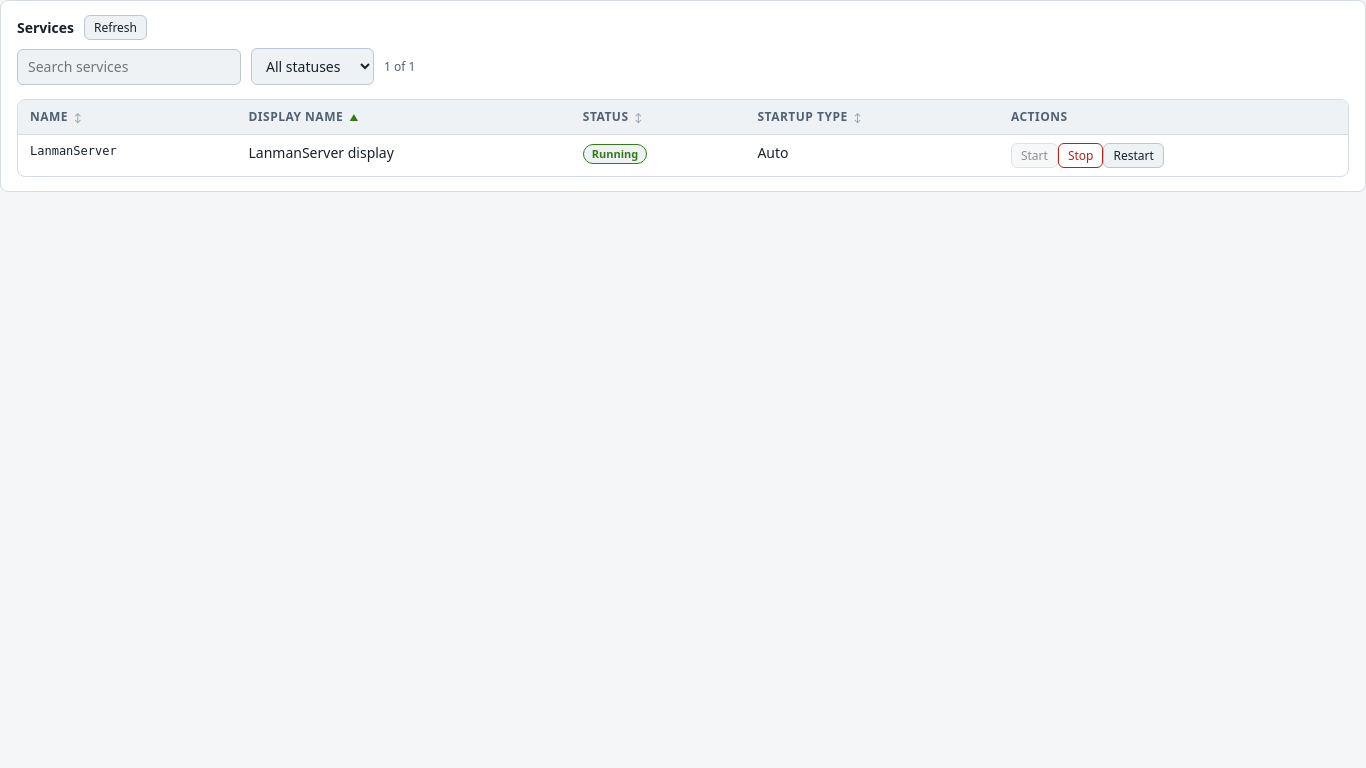
dependents flow › the service name field is read-only when preset, and the server effectiveRisk drives badge, typed hostname and the required reason
Click the button with aria-label "Stop LanmanServer": (1081, 156) [1058,143,1104,168]
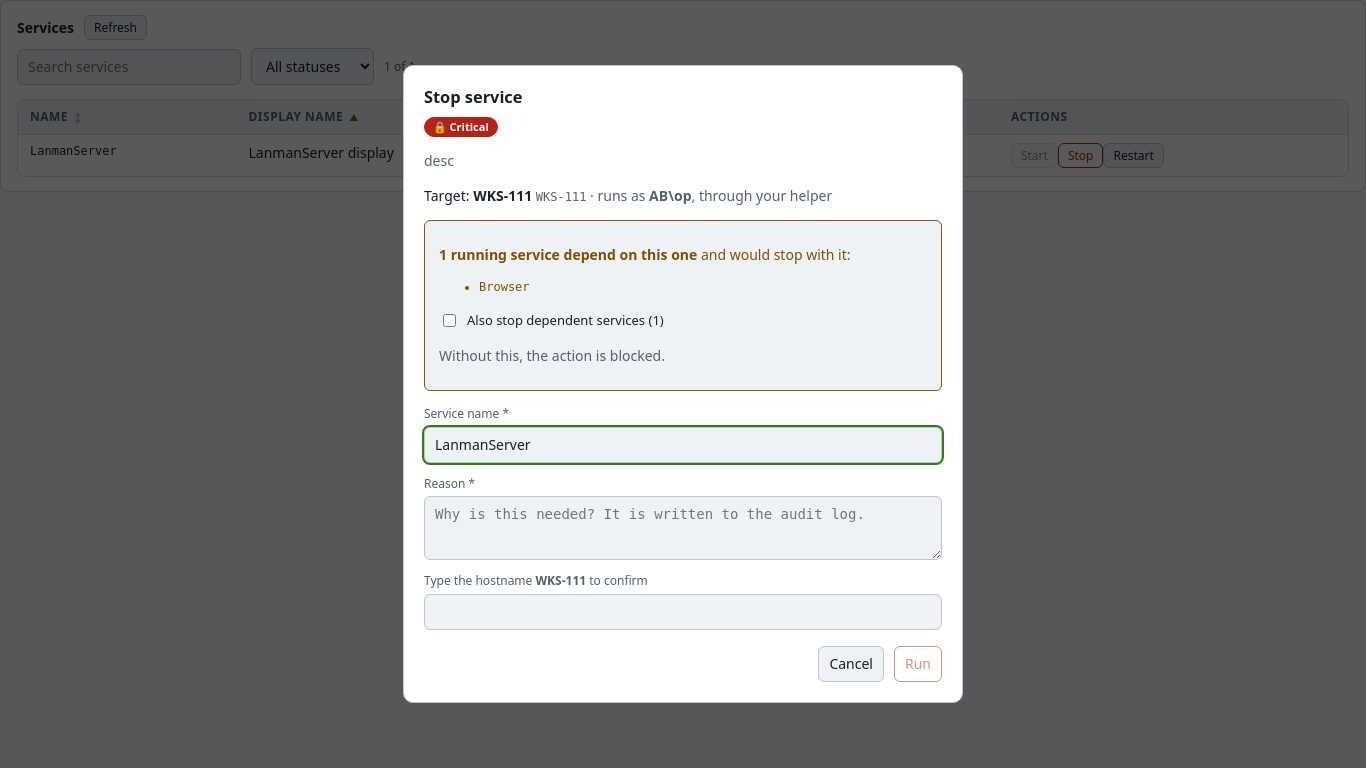
Expected: the list item "Browser" is shown, [479,280,530,294]
Expected: the dialog shows "Critical", [450,119,489,134]
Expected: the field labelled "Type the hostname WKS-111 to confirm" is shown, [424,594,942,630]
